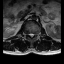CCS_normal: (30, 30, 32, 39)
LFS_stenosis: (34, 31, 36, 37)
LLS_stenosis: (32, 31, 34, 38)
RFS_stenosis: (26, 31, 28, 37)
RLS_normal: (28, 31, 30, 37)
